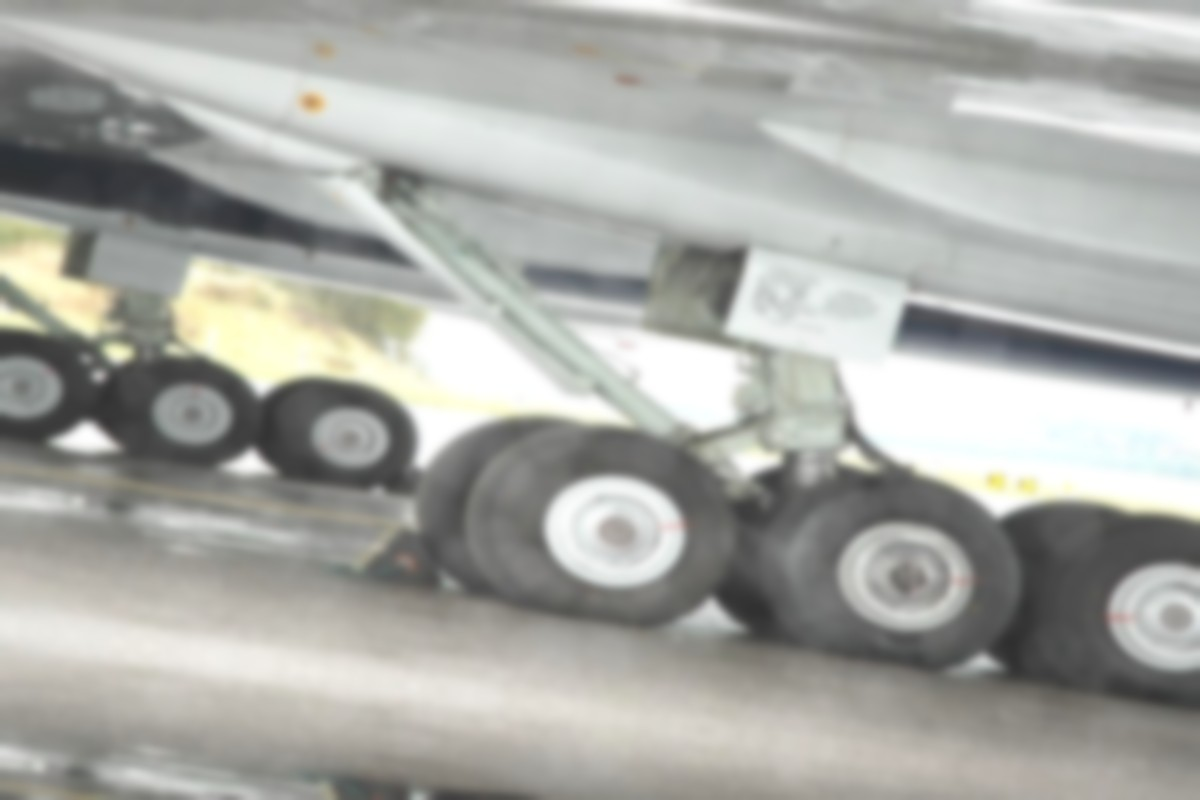chock: (340, 515, 456, 595), (302, 769, 418, 800), (382, 459, 430, 501)
wheel: (446, 403, 755, 643), (745, 453, 1039, 687), (1027, 496, 1200, 725), (100, 348, 267, 477), (263, 367, 426, 497), (0, 319, 105, 452)
